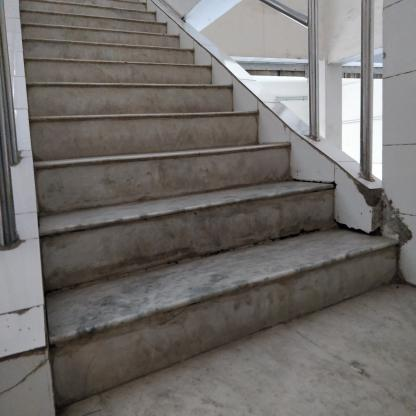stairs: (59, 99, 233, 416)
